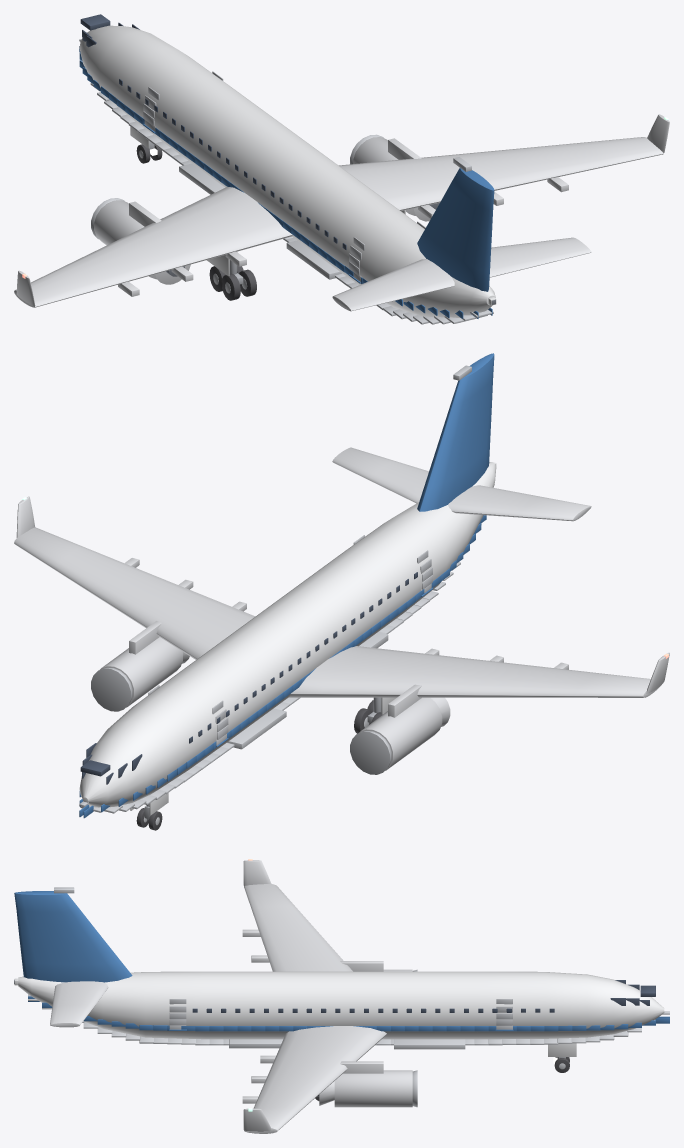
Rendered from th25_flugzeug.glb.
3 views of the same model, one above another, from view 1: azimuth 30°, elevation 25°; view 2: azimuth 150°, elevation 25°; view 3: azimuth 270°, elevation 25° (orthographic). The views are drawn at different scales.
Visible parts, largest first — view 1: Rumpf, Tragflaeche, Seitenleitwerk, Hoehenleitwerk, Cylinder, Cylinder.004, Cube.249, Cube.248, Winglet.001; view 2: Rumpf, Tragflaeche, Seitenleitwerk, Hoehenleitwerk, Cylinder, Cylinder.004, Cone, Cone.002, Cube.248; view 3: Rumpf, Tragflaeche, Seitenleitwerk, Cylinder.004, Hoehenleitwerk, Cube.248, Winglet, Winglet.001, Cube.249, Cube.231.
Part boxes in pixels (bbox=[...]): Rumpf: bbox=[79, 25, 495, 317]; Tragflaeche: bbox=[14, 137, 663, 307]; Seitenleitwerk: bbox=[417, 168, 494, 291]; Hoehenleitwerk: bbox=[332, 237, 591, 311]; Cylinder: bbox=[94, 200, 156, 279]; Cylinder.004: bbox=[353, 137, 415, 215]; Cube.249: bbox=[286, 240, 341, 279]; Cube.248: bbox=[179, 163, 224, 194]; Winglet.001: bbox=[647, 114, 669, 152]; Rumpf: bbox=[79, 462, 496, 807]; Tragflaeche: bbox=[14, 527, 662, 697]; Seitenleitwerk: bbox=[417, 353, 494, 511]; Hoehenleitwerk: bbox=[332, 447, 591, 521]; Cylinder: bbox=[359, 697, 442, 770]; Cylinder.004: bbox=[100, 637, 182, 707]; Cone: bbox=[350, 731, 391, 774]; Cone.002: bbox=[91, 667, 132, 711]; Cube.248: bbox=[227, 708, 286, 749]; Rumpf: bbox=[18, 971, 664, 1039]; Tragflaeche: bbox=[244, 884, 386, 1133]; Seitenleitwerk: bbox=[14, 891, 132, 982]; Cylinder.004: bbox=[334, 1070, 412, 1107]; Hoehenleitwerk: bbox=[50, 981, 108, 1027]; Cube.248: bbox=[394, 1039, 465, 1049]; Winglet: bbox=[243, 860, 271, 886]; Winglet.001: bbox=[243, 1108, 272, 1131]; Cube.249: bbox=[229, 1039, 283, 1048]; Cube.231: bbox=[340, 1061, 383, 1073].
Size of the model in its own units: 34.82 by 11.78 by 38.58.
